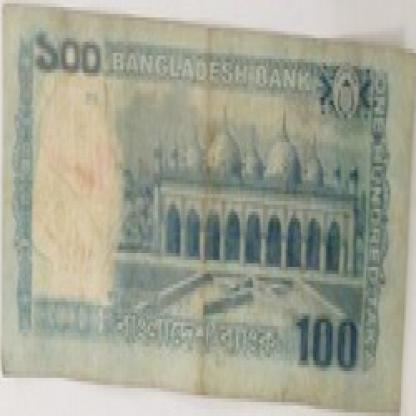one hundred taka: (290, 301, 361, 384), (31, 17, 106, 90)
